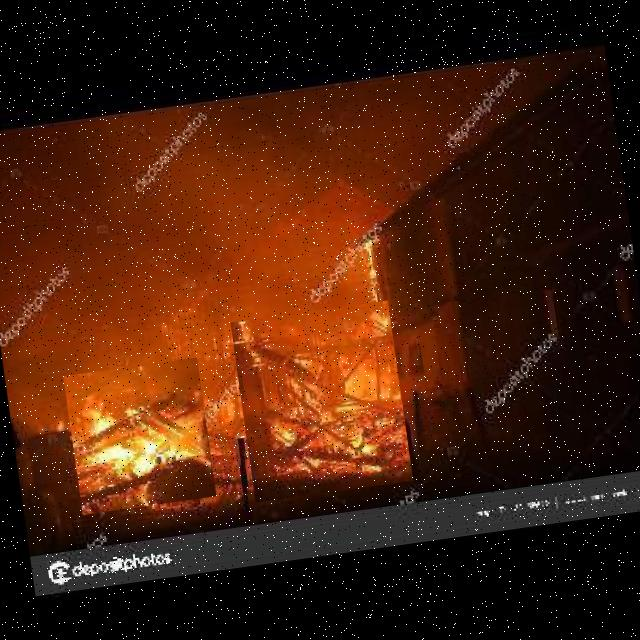fire: (231, 300, 414, 502), (64, 358, 216, 514)
